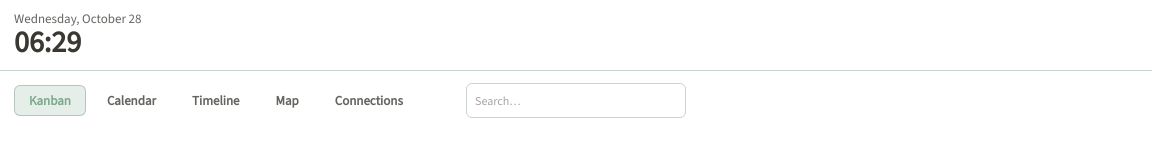
Scenario: HomeTab shell (integrated dashboard) › global search input reads/writes the shared search store (owner decision: fully shared, not per-pane)
In the dropdown with test id "home-search-input": x=576, y=100 [466,83,686,118], type "진주"
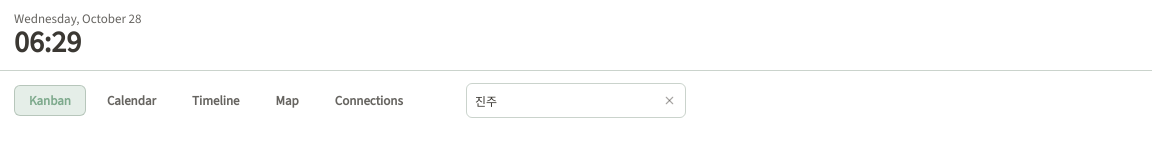
Result: the button with test id "home-search-clear" is shown
Click the button with test id "home-search-clear": x=669, y=100 [656,88,682,114]
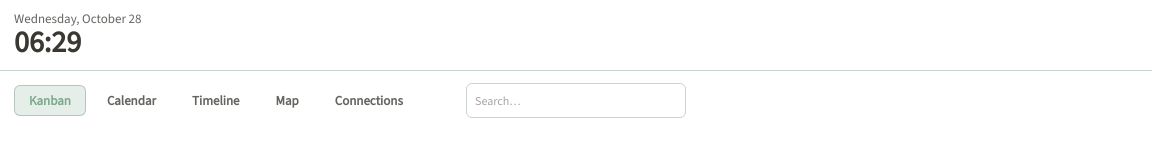
Result: the button with test id "home-search-clear" is gone
